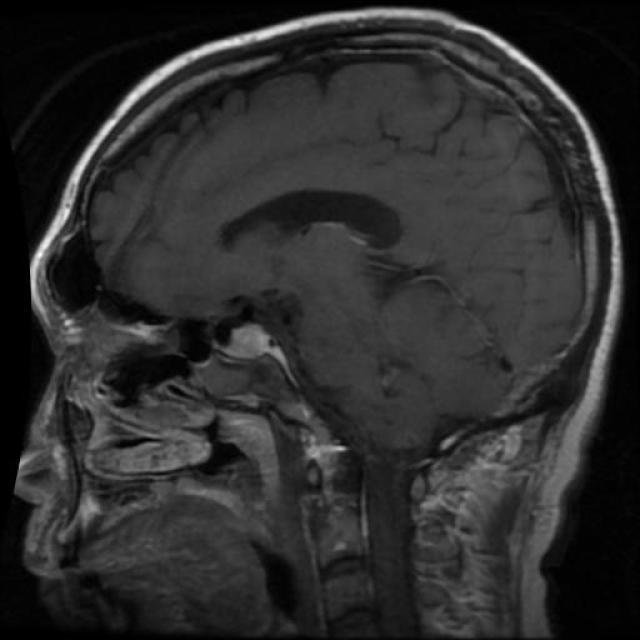pituitary: (212, 308, 298, 382)
